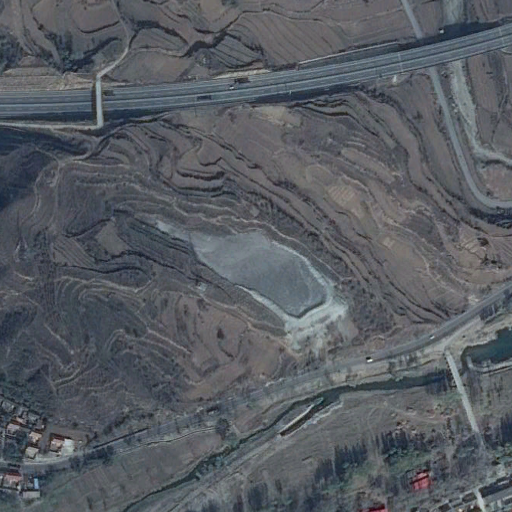tp: (192, 228, 347, 329)
